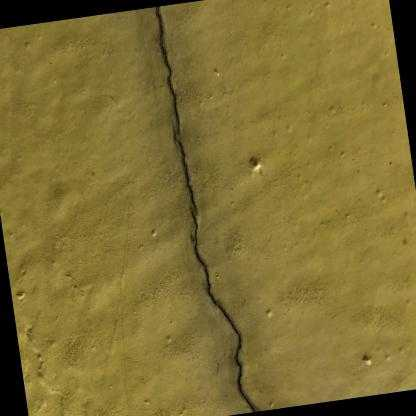crack: (191, 211, 257, 412), (155, 5, 179, 137), (173, 132, 196, 211)
